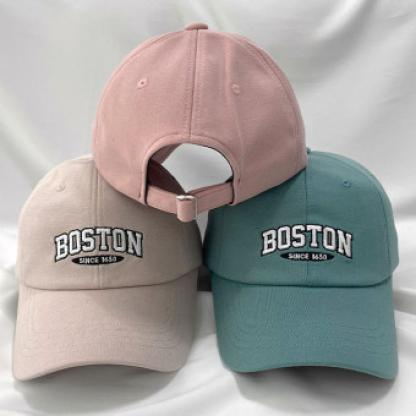cap: (199, 140, 408, 390), (91, 21, 311, 223), (15, 151, 198, 383)
